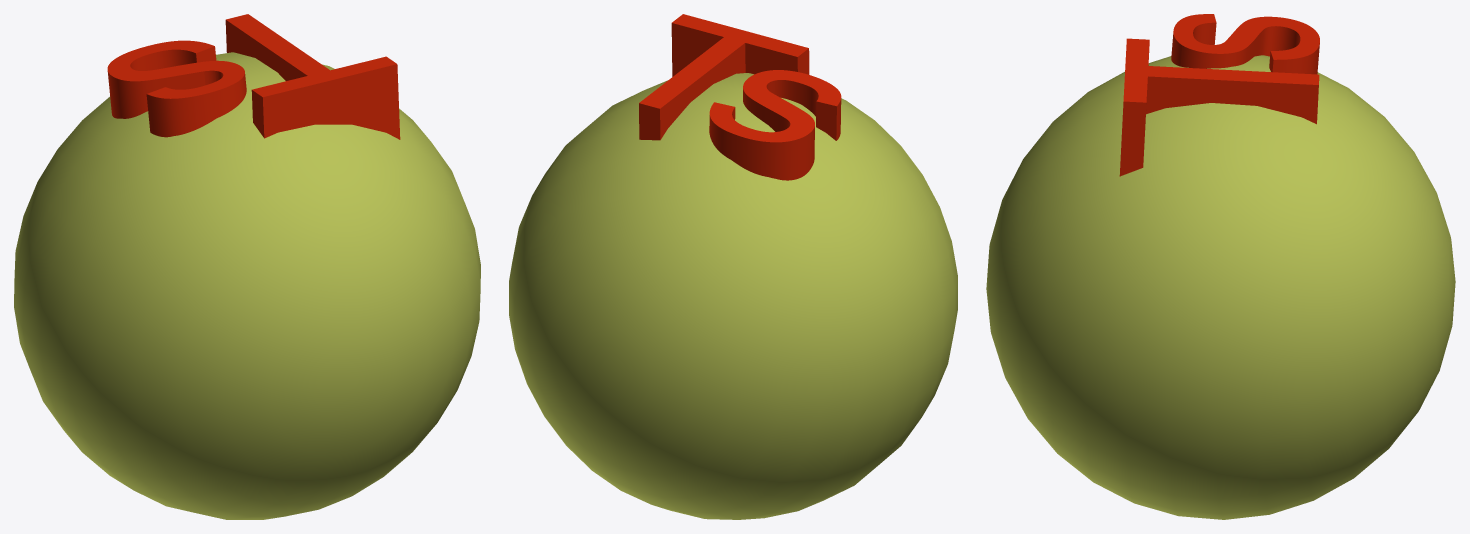
3 renders of one model, left to right at view 1: azimuth 30°, elevation 25°; view 2: azimuth 150°, elevation 25°; view 3: azimuth 270°, elevation 25°, orthographic. The views are drawn at different scales.
Parts seen in each view (by area): view 1: Cl001, Object008, Object005; view 2: Cl001, Object005, Object008; view 3: Cl001, Object008, Object005.
Boxes of the visible parts, x1=… form: Cl001: x1=14, y1=52, x2=480, y2=519; Object008: x1=225, y1=14, x2=400, y2=139; Object005: x1=107, y1=40, x2=246, y2=137; Cl001: x1=509, y1=73, x2=957, y2=519; Object005: x1=709, y1=70, x2=841, y2=180; Object008: x1=639, y1=14, x2=809, y2=140; Cl001: x1=986, y1=55, x2=1455, y2=519; Object008: x1=1119, y1=38, x2=1319, y2=176; Object005: x1=1171, y1=14, x2=1319, y2=74.
Size of the model in its own units: 38.6 by 40.53 by 38.7.
